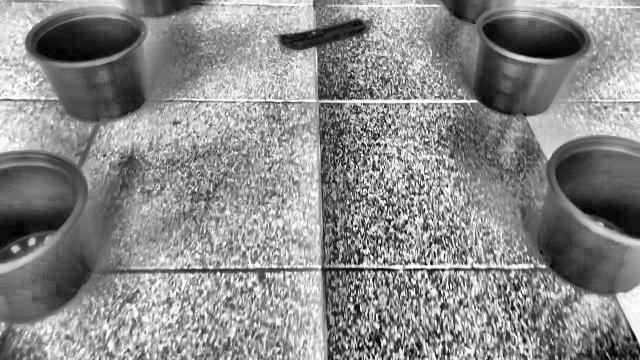pot: (535, 136, 640, 297), (0, 152, 94, 324), (24, 6, 149, 122), (473, 6, 590, 116)
